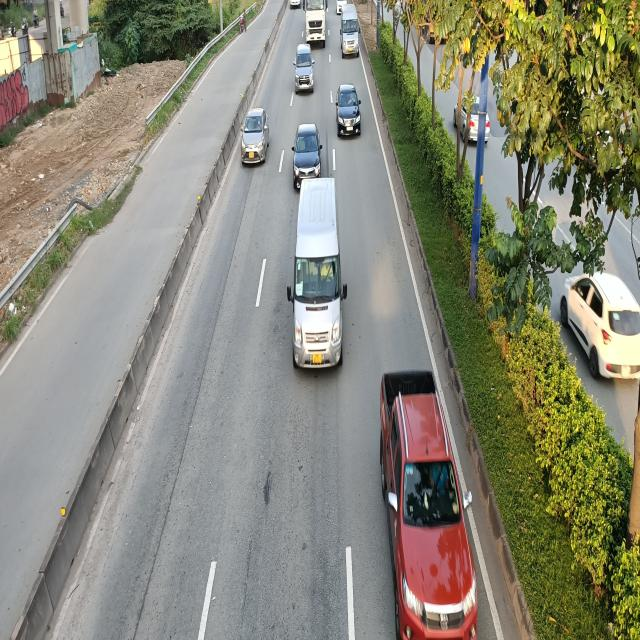car: (378, 374, 473, 640), (292, 122, 324, 186), (242, 110, 272, 167), (336, 83, 363, 137), (293, 44, 314, 94)
truck: (305, 0, 329, 46)
van: (290, 180, 350, 370), (340, 4, 360, 58)
